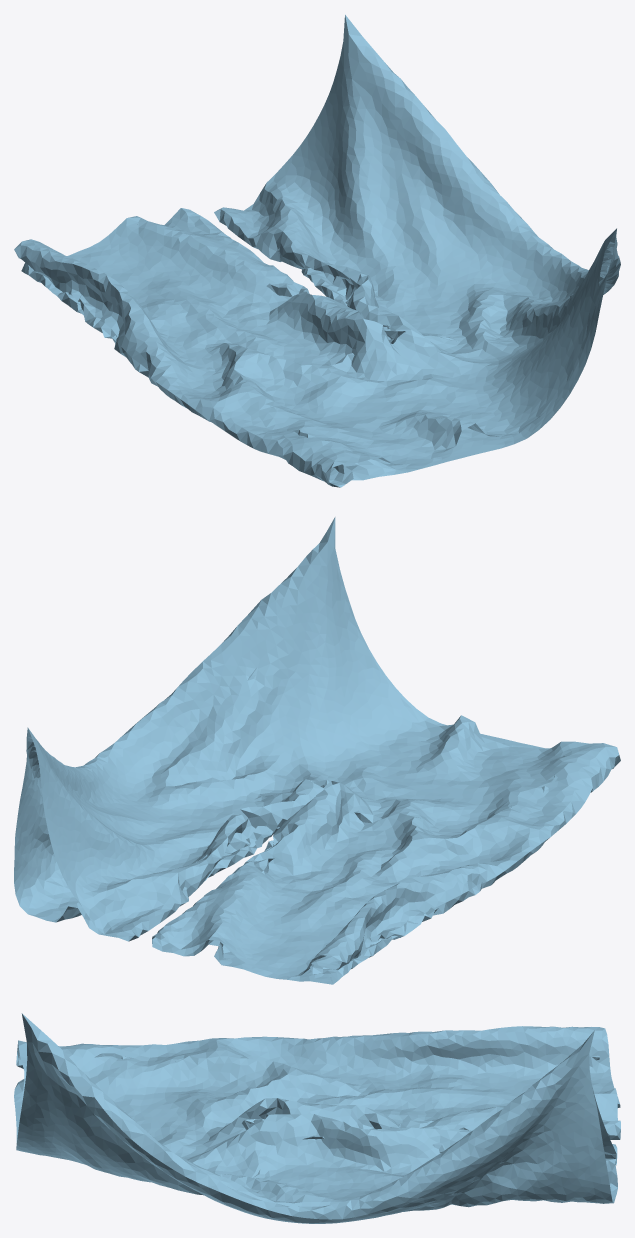
The model's file is frame_06.glb.
3 renders of one model, top to bottom at view 1: azimuth 30°, elevation 25°; view 2: azimuth 150°, elevation 25°; view 3: azimuth 270°, elevation 25°, orthographic. The views are drawn at different scales.
Visible parts, largest first — view 1: frame_06.obj; view 2: frame_06.obj; view 3: frame_06.obj.
Boxes of the visible parts, bbox=[...] form: frame_06.obj: bbox=[14, 14, 620, 487]; frame_06.obj: bbox=[14, 517, 620, 984]; frame_06.obj: bbox=[14, 1013, 620, 1223].
Size of the model in its own units: 1.23 by 0.5535 by 1.6.
